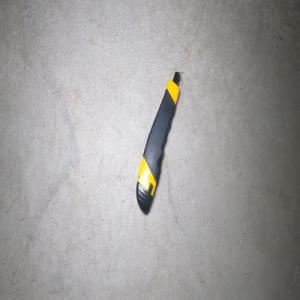Cutter: (135, 71, 181, 213)
